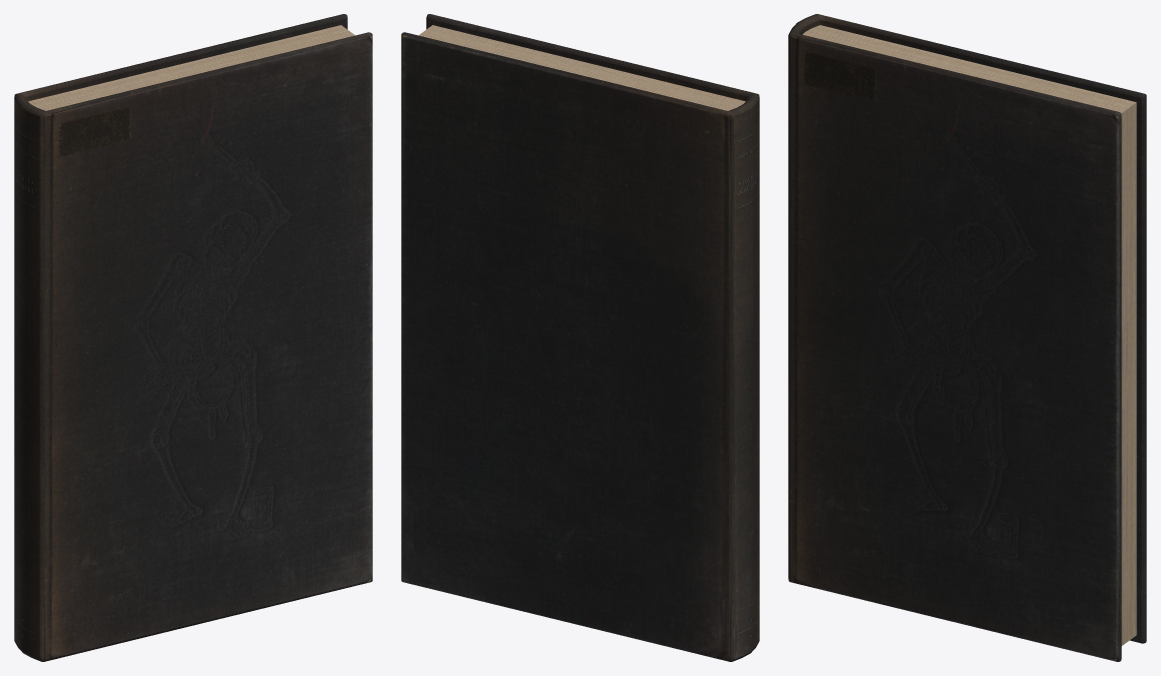
The model's file is livre_2.glb.
3 views of the same model, side by side, from view 1: azimuth 30°, elevation 25°; view 2: azimuth 150°, elevation 25°; view 3: azimuth 330°, elevation 25° (orthographic).
Visible parts, largest first — view 1: Object_2; view 2: Object_2; view 3: Object_2.
Part boxes in pixels (x1,y1,x2,y2): Object_2: [14, 14, 372, 661]; Object_2: [401, 14, 759, 661]; Object_2: [788, 14, 1146, 661].
Bounding box in the file's own units: 1.04 × 1.62 × 0.1536.
Materials: 1 (1 with a texture image).
